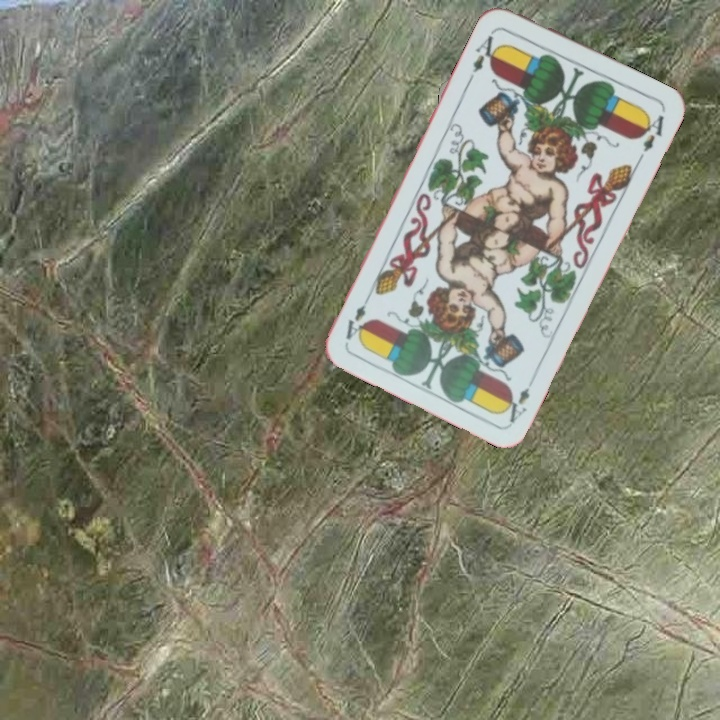EA: (465, 26, 503, 82), (499, 383, 533, 426)
